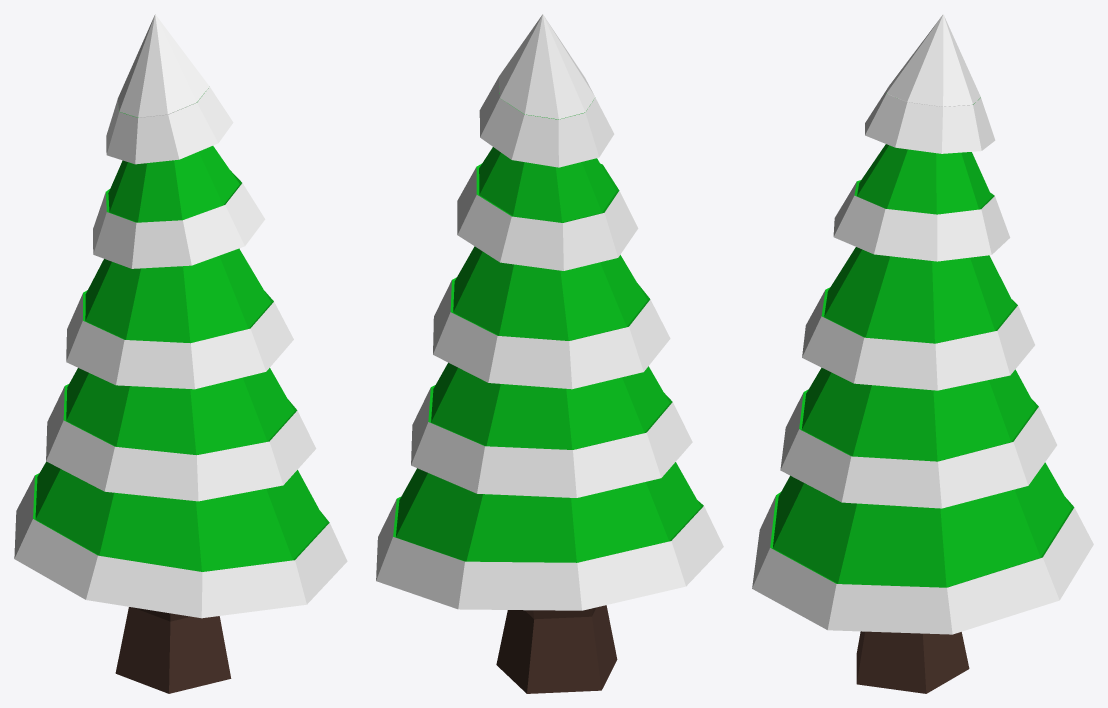
The model's file is Tree.fbx.
3 renders of one model, left to right at view 1: azimuth 30°, elevation 25°; view 2: azimuth 150°, elevation 25°; view 3: azimuth 270°, elevation 25°, orthographic. The views are drawn at different scales.
Visible parts, largest first — view 1: Cone.004; view 2: Cone.004; view 3: Cone.004.
Boxes of the visible parts, <box> form: Cone.004: <box>14,14,347,693</box>; Cone.004: <box>376,14,723,693</box>; Cone.004: <box>752,14,1093,693</box>.
Size of the model in its own units: 236 by 496 by 235.
